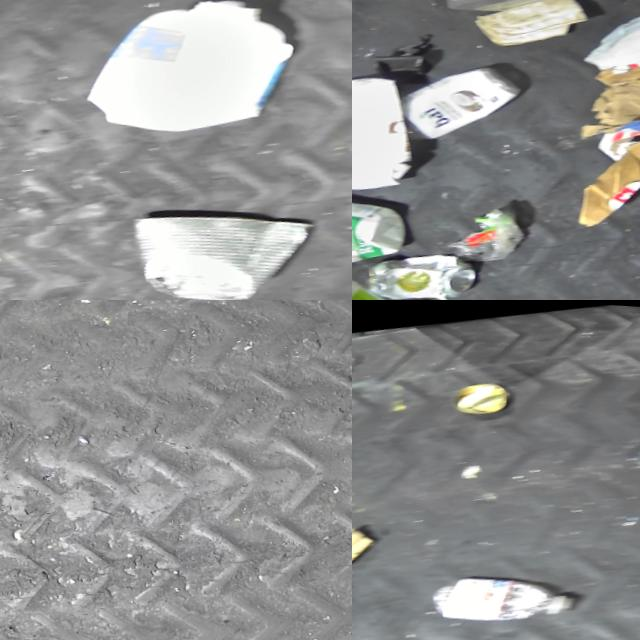can: (130, 182, 333, 300), (366, 239, 487, 300), (450, 373, 513, 417)
milk_jug: (73, 0, 312, 149), (352, 65, 422, 197)
